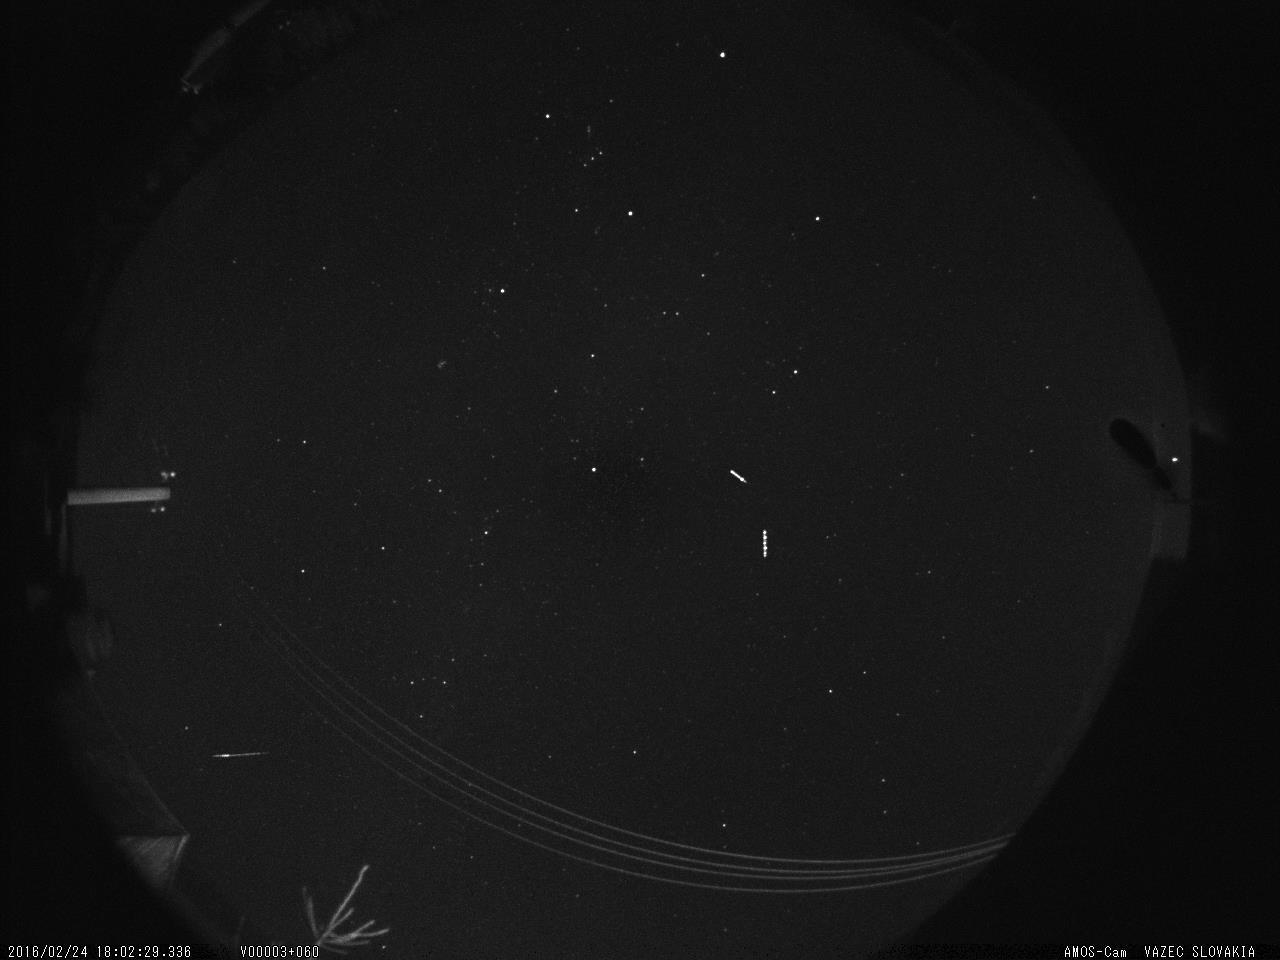Meteor: (212, 745, 271, 767)
